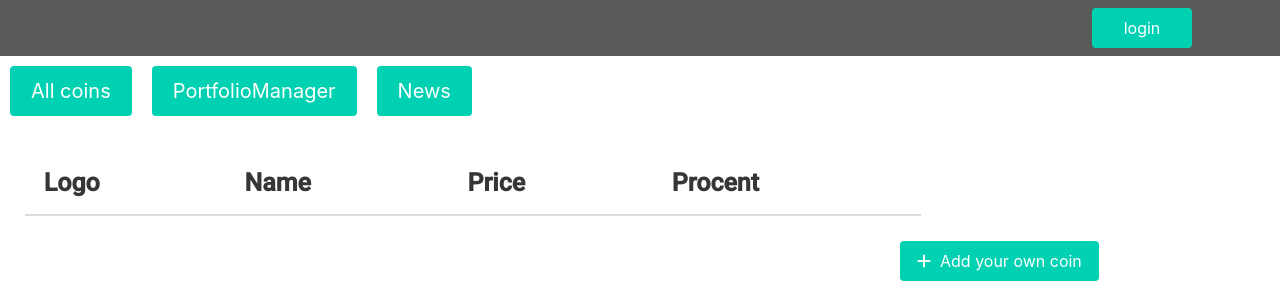
Test case: Login › blocks protected portfolio
Click the button "PortfolioManager": (255, 91) [152,66,357,116]
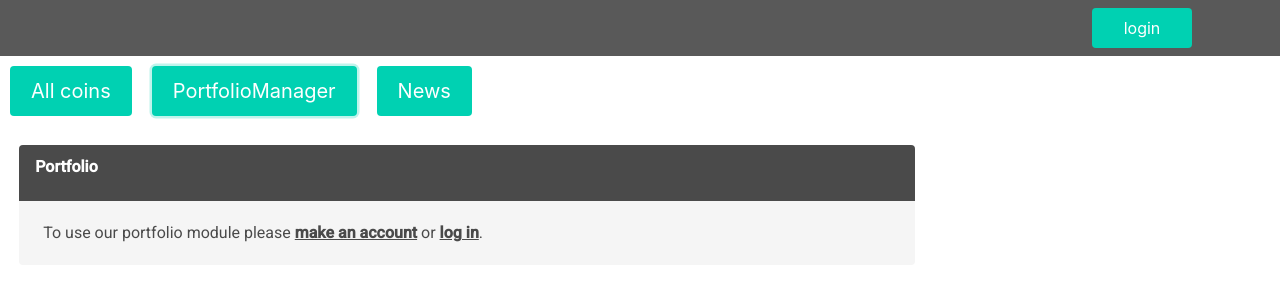
Expected: the text "To use our portfolio module" is shown, [43,223,295,242]
